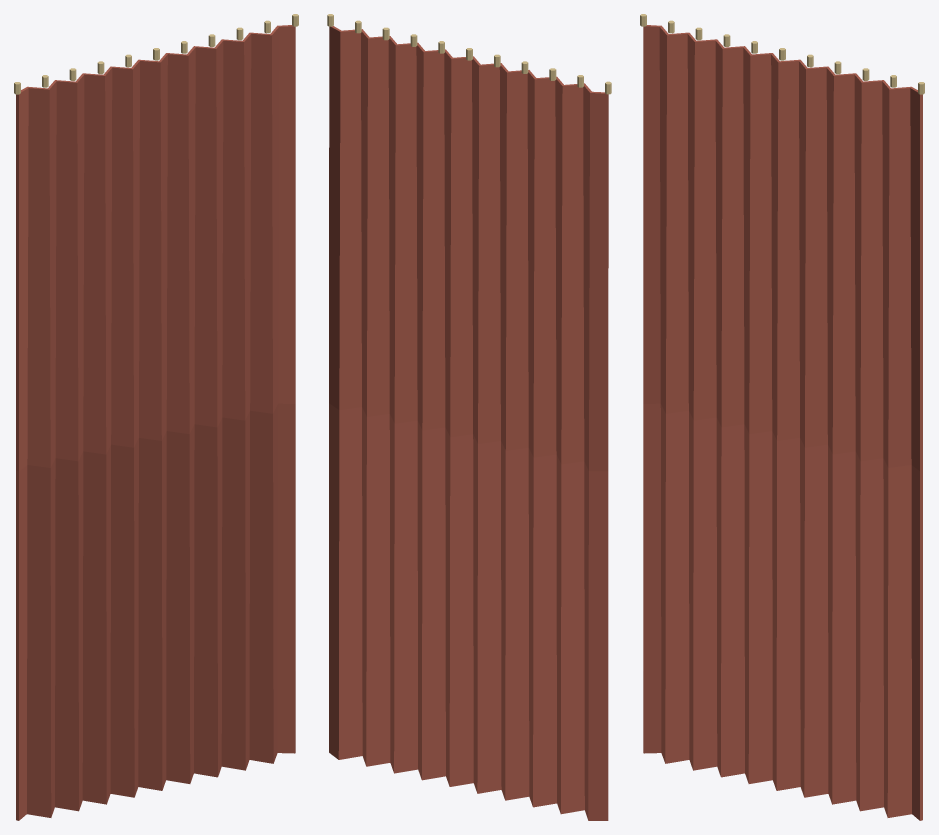
The model's file is curtain_right.glb.
The picture shows the model from 3 angles, left to right: view 1: azimuth 30°, elevation 25°; view 2: azimuth 150°, elevation 25°; view 3: azimuth 330°, elevation 25°; orthographic projection.
Parts seen in each view (by area): view 1: curtain_right; view 2: curtain_right; view 3: curtain_right.
Part boxes in pixels (x1=…): curtain_right: x1=14, y1=14, x2=298, y2=820; curtain_right: x1=327, y1=14, x2=611, y2=820; curtain_right: x1=640, y1=14, x2=924, y2=820.
Bounding box in the file's own units: 1.16 × 2.89 × 0.084.
